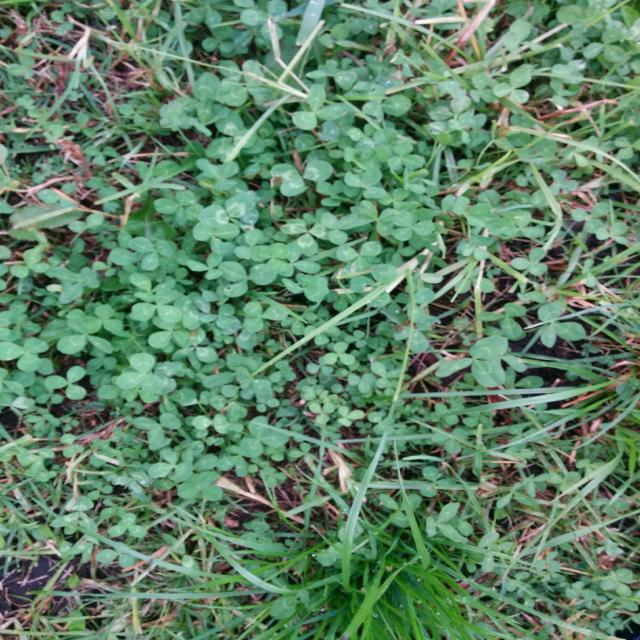Four Leaf Clover: (281, 273, 329, 302)
